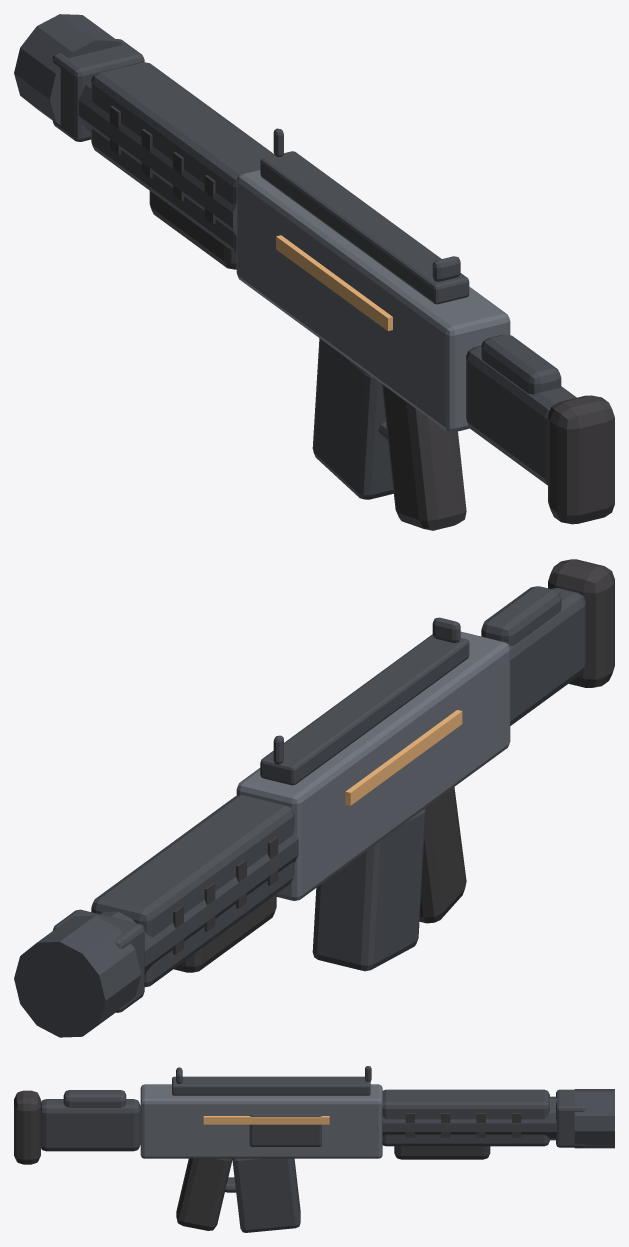
File: WPN_Shotgun.fbx
The picture shows the model from 3 angles, top to bottom: view 1: azimuth 30°, elevation 25°; view 2: azimuth 150°, elevation 25°; view 3: azimuth 270°, elevation 25°; orthographic projection. The views are drawn at different scales.
Parts seen in each view (by area): view 1: WPN_Shotgun; view 2: WPN_Shotgun; view 3: WPN_Shotgun.
Boxes of the visible parts, box(x1,y1,x2,y2) form: WPN_Shotgun: box(14, 14, 614, 530); WPN_Shotgun: box(14, 559, 614, 1037); WPN_Shotgun: box(14, 1066, 614, 1232).
Size of the model in its own units: 0.0884 by 0.265 by 0.893.
